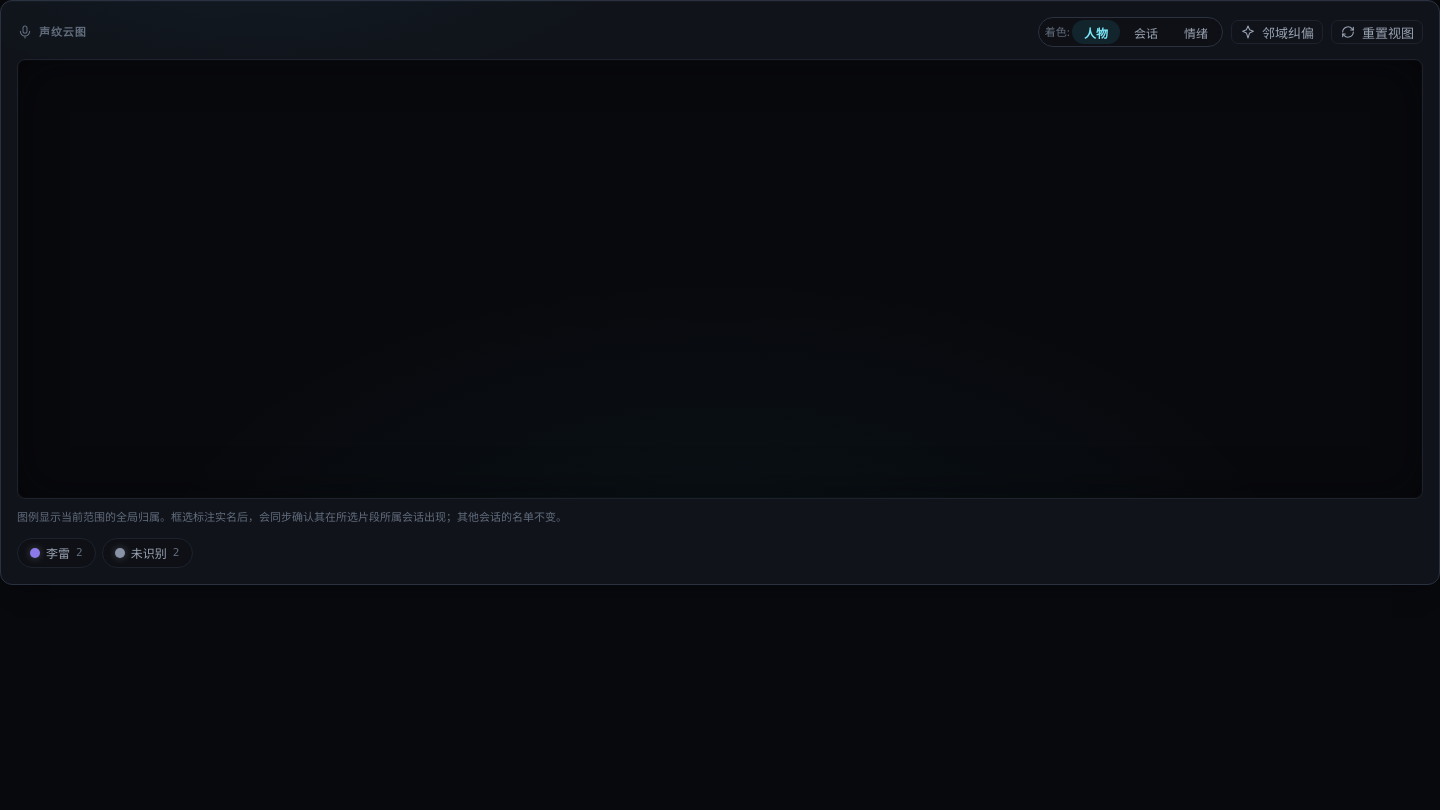
Test case: VoiceprintMap › cancels an in-page neighbour correction preview without applying it
expect the list named "图例" is shown: met, box [17,538,192,568]
Click the button "邻域纠偏" at (1277, 32), box [1231,20,1323,44]
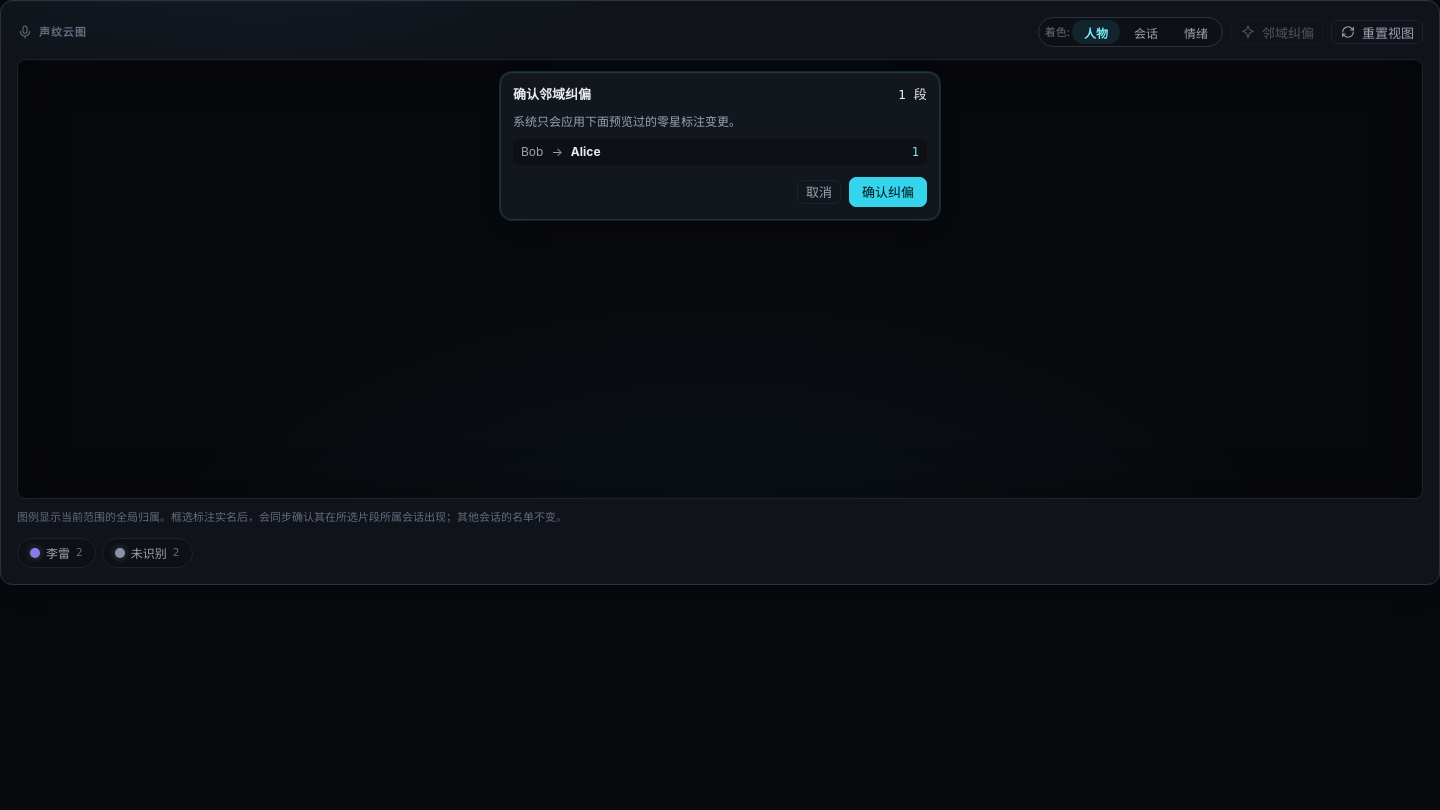
Click the button "取消" at (819, 192), box [797,180,841,204]
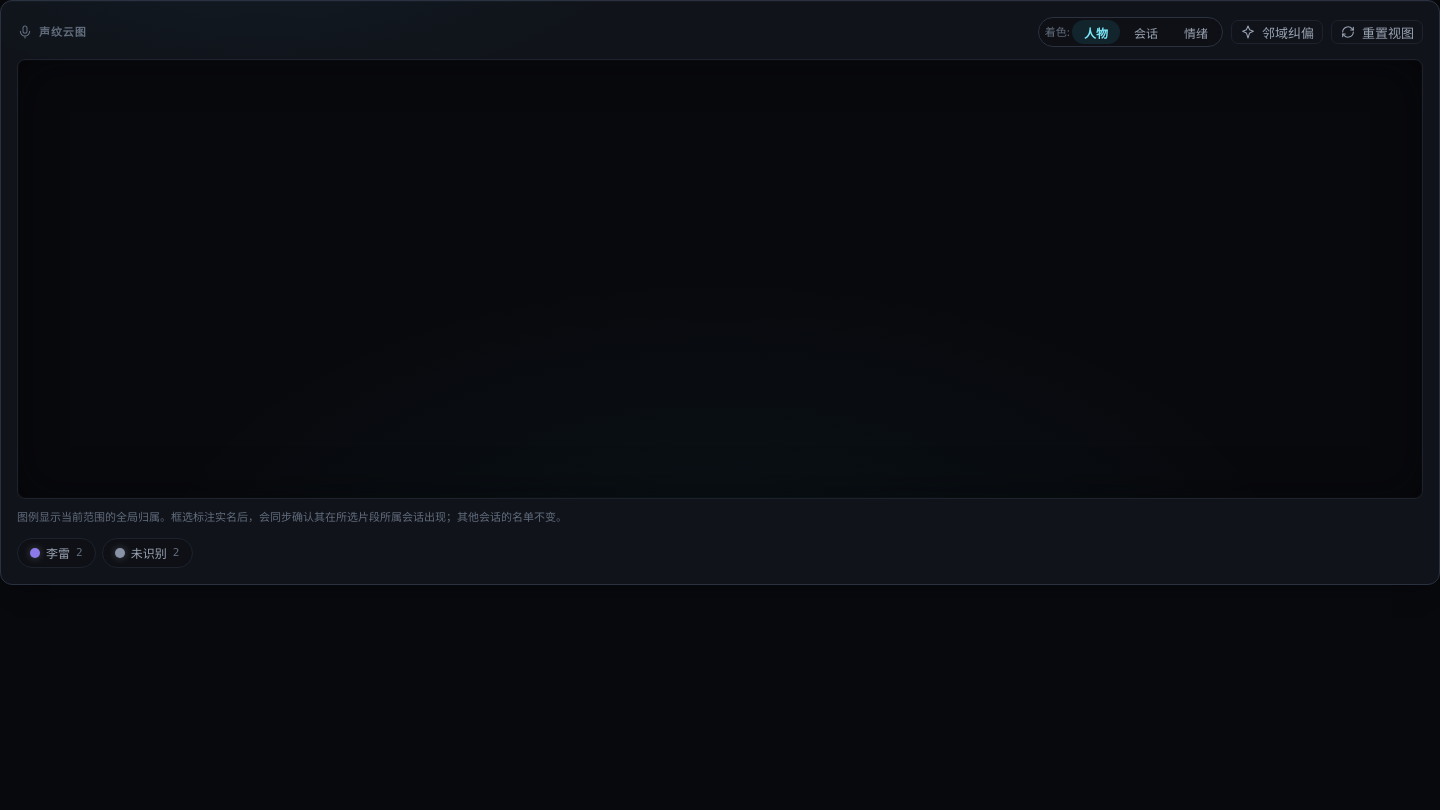
expect the text "确认邻域纠偏" is gone: met
